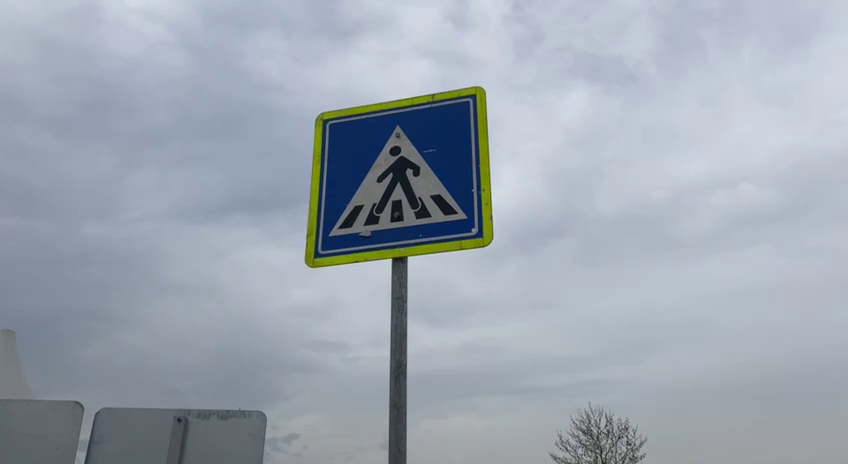pedestrianCrossing: (303, 85, 494, 269)
